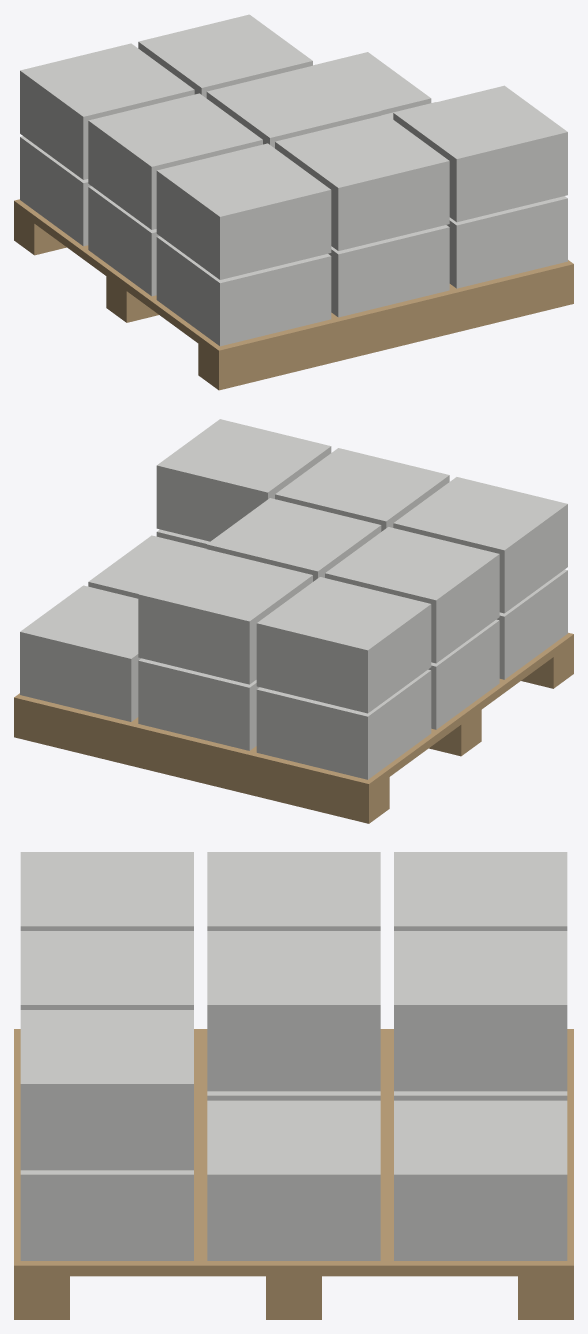
File: pallet_mp_16.glb
The picture shows the model from 3 angles, top to bottom: view 1: azimuth 30°, elevation 25°; view 2: azimuth 150°, elevation 25°; view 3: azimuth 270°, elevation 25°; orthographic projection. The views are drawn at different scales.
Visible parts, largest first — view 1: PalletMP; view 2: PalletMP; view 3: PalletMP.
Part boxes in pixels (box(x1,y1,x2,y2)): PalletMP: box(14, 14, 573, 390); PalletMP: box(14, 419, 573, 823); PalletMP: box(14, 852, 573, 1319).
Bounding box in the file's own units: 1 × 0.46 × 1.
